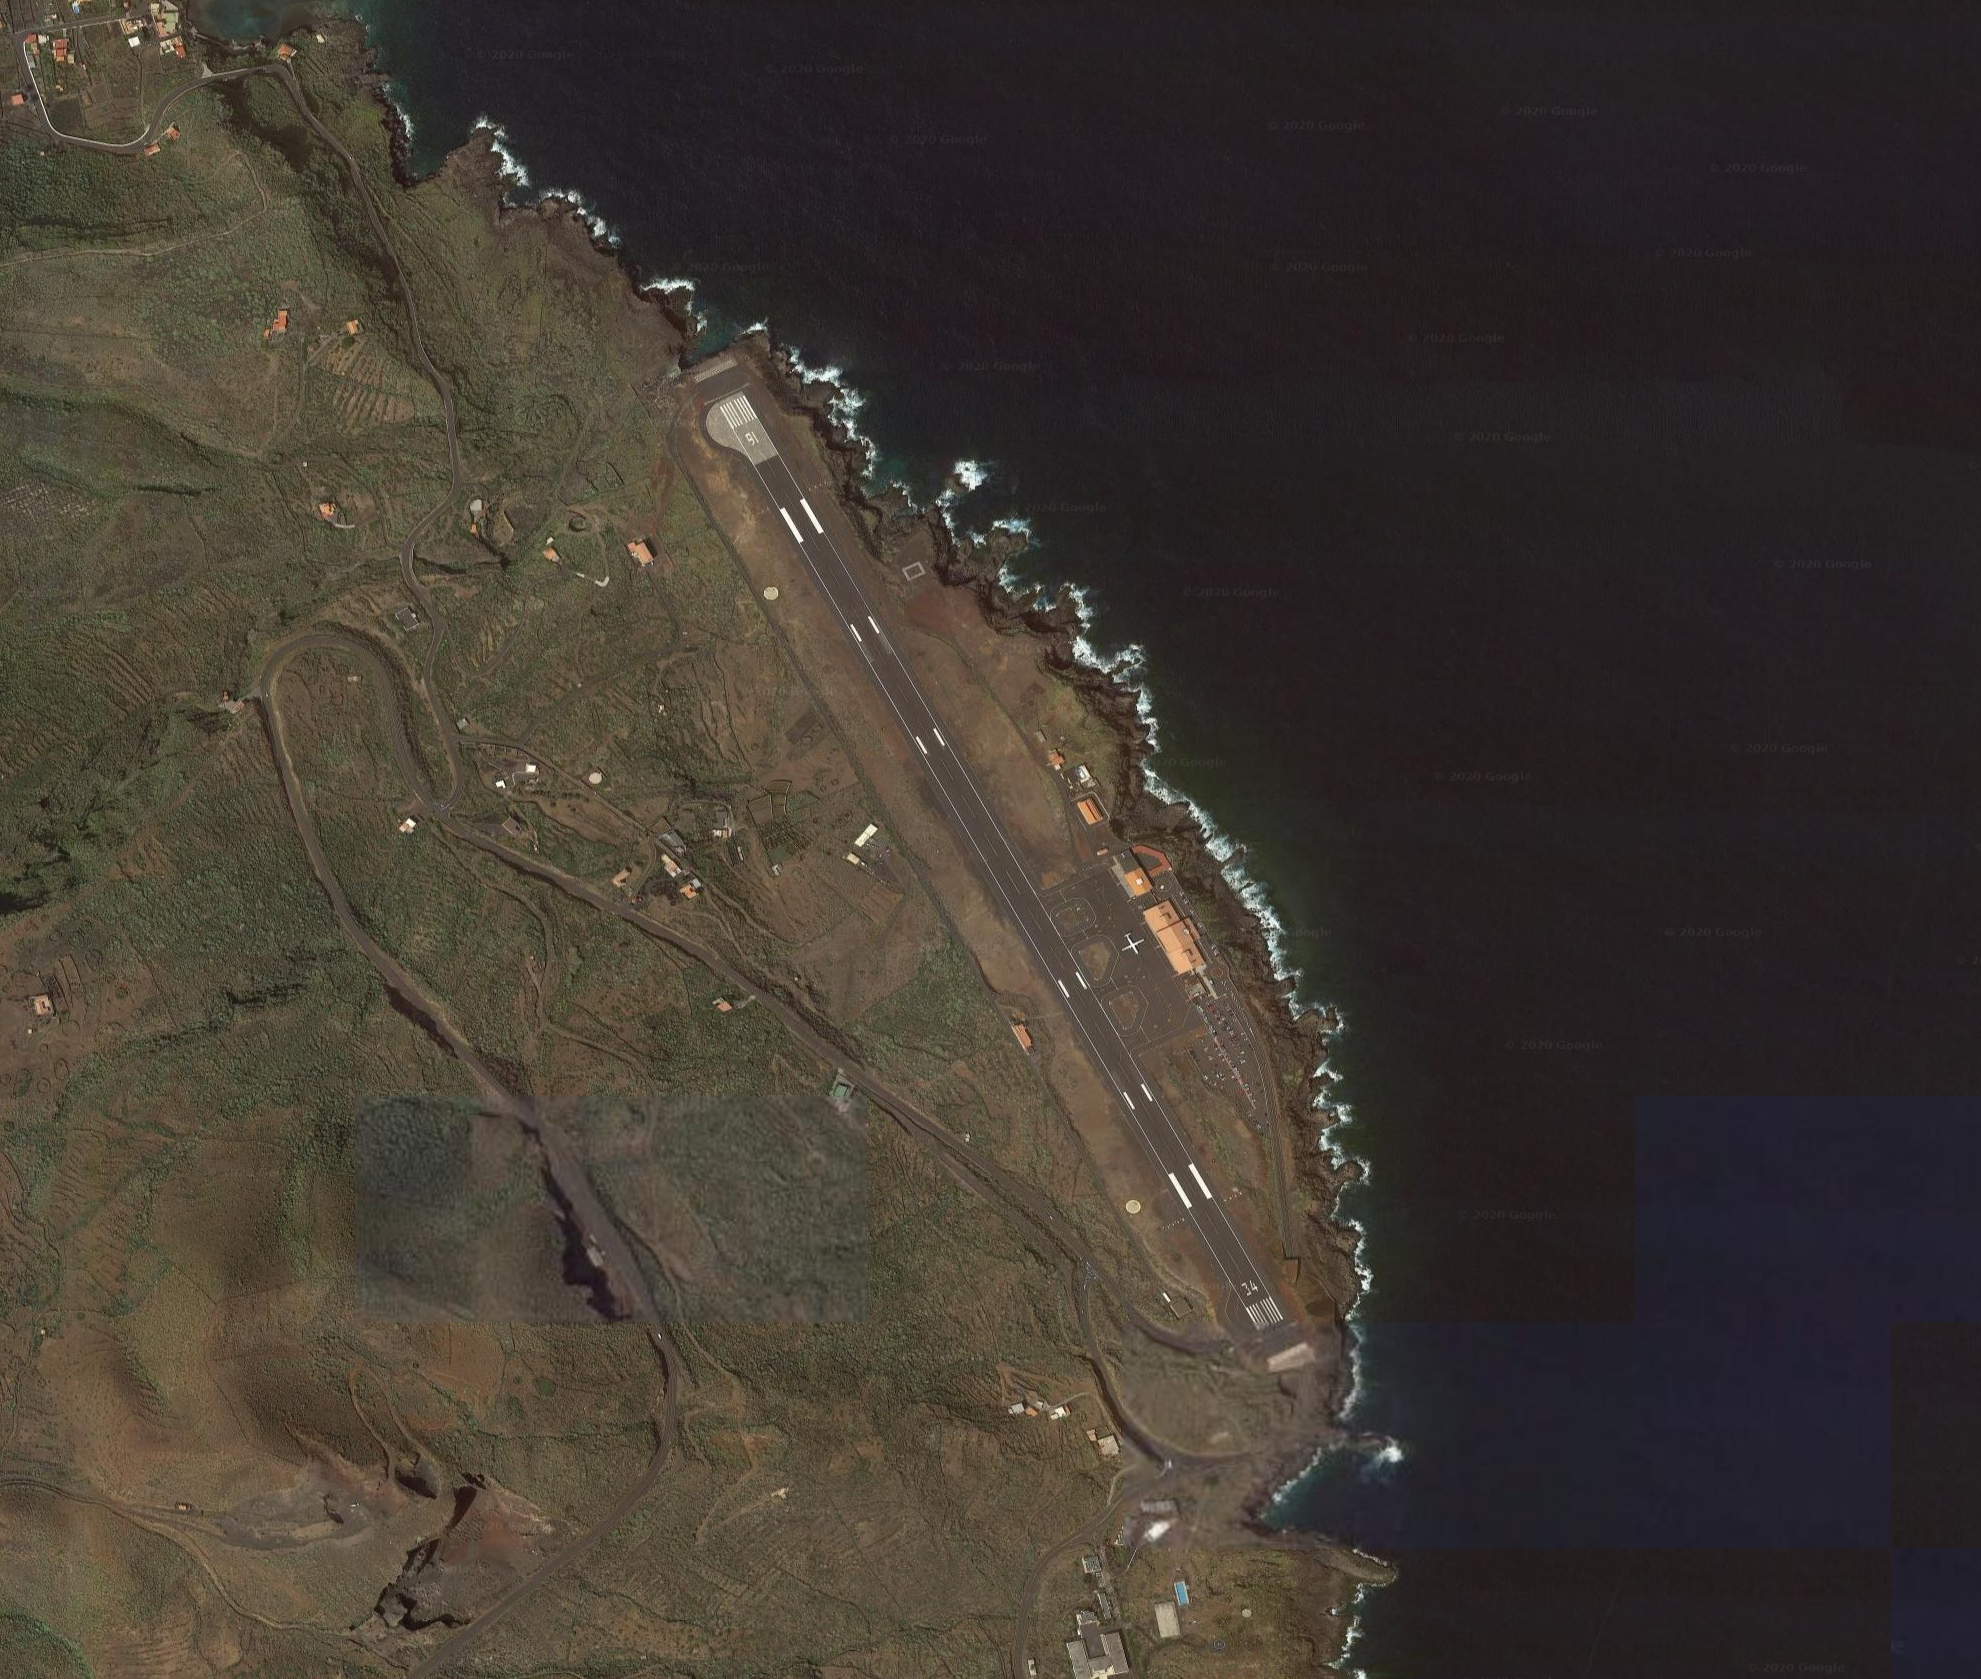airport: (685, 353, 1305, 1348)
motorway: (550, 1374, 683, 1567), (901, 1114, 1055, 1239), (751, 988, 895, 1118), (402, 1567, 565, 1679), (578, 891, 746, 989), (595, 1204, 683, 1381), (280, 793, 377, 953), (357, 953, 473, 1063), (447, 811, 580, 899), (378, 680, 447, 825), (252, 648, 308, 796), (292, 623, 388, 668)
